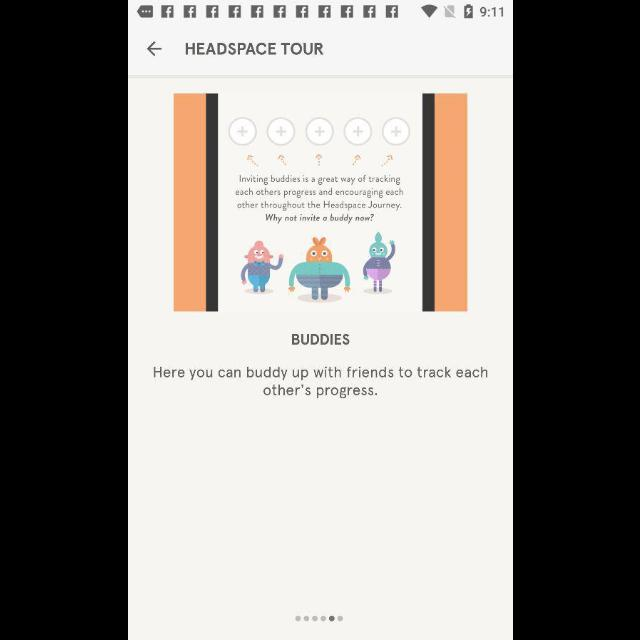icon: (146, 42, 162, 56)
image: (173, 94, 467, 312)
pageindicator: (294, 616, 344, 622)
text: (153, 366, 487, 398), (184, 44, 324, 56), (290, 334, 350, 346)
toolbar: (128, 19, 512, 76)
uppertaskbar: (128, 1, 512, 19)
